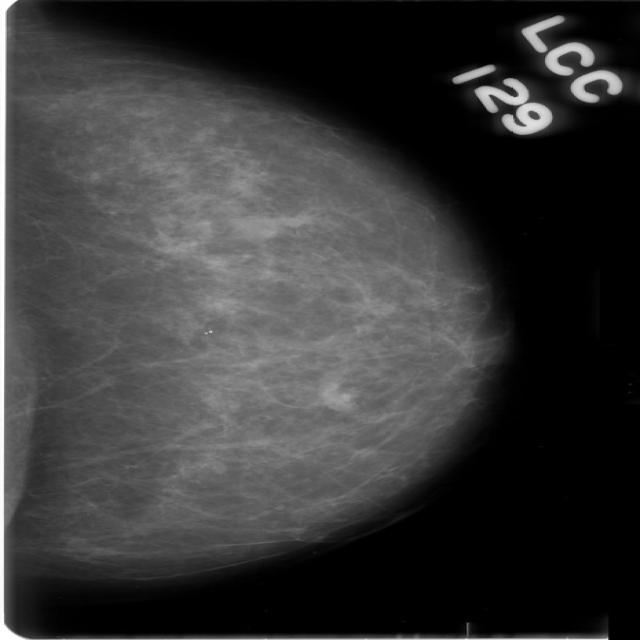tumour: (227, 212, 282, 240)
